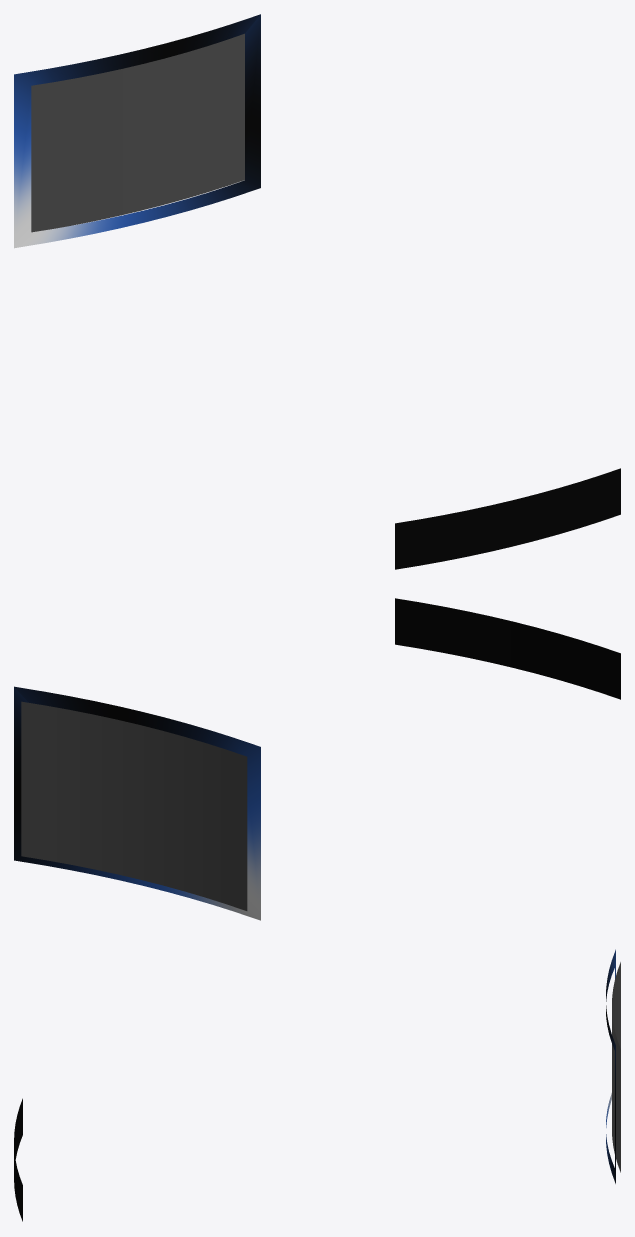
File: ___button_zone_small_10x5.fbx
The picture shows the model from 3 angles, top to bottom: view 1: azimuth 30°, elevation 25°; view 2: azimuth 150°, elevation 25°; view 3: azimuth 270°, elevation 25°; orthographic projection. The views are drawn at different scales.
Visible parts, largest first — view 1: ___button_zone_small_10x5, ___glow, ___overlap; view 2: ___button_zone_small_10x5, ___overlap, ___glow; view 3: ___button_zone_small_10x5, ___overlap, ___glow.
Part boxes in pixels (bbox=[...]): ___button_zone_small_10x5: bbox=[31, 33, 244, 232]; ___glow: bbox=[14, 14, 260, 248]; ___overlap: bbox=[395, 468, 620, 569]; ___button_zone_small_10x5: bbox=[21, 701, 247, 910]; ___overlap: bbox=[395, 598, 620, 699]; ___glow: bbox=[14, 686, 260, 920]; ___button_zone_small_10x5: bbox=[612, 962, 620, 1172]; ___overlap: bbox=[14, 1098, 22, 1221]; ___glow: bbox=[606, 949, 615, 1183].
Bounding box in the file's own units: 18.96 × 16.63 × 50.46.
